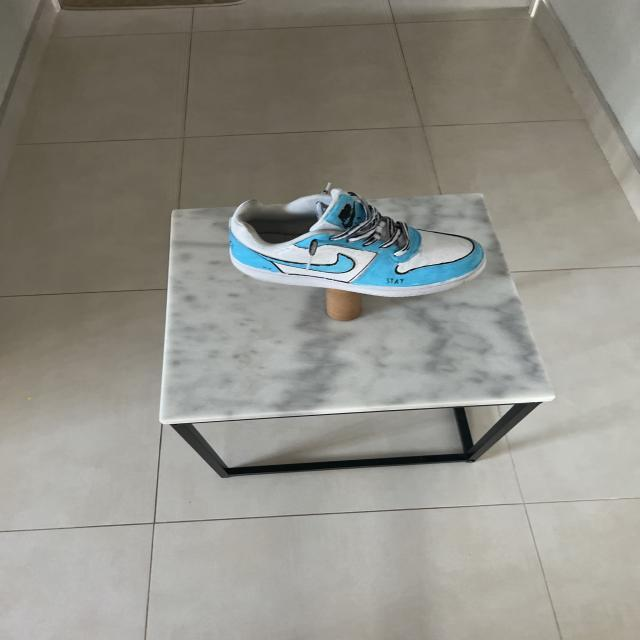shoe: (224, 184, 489, 300)
